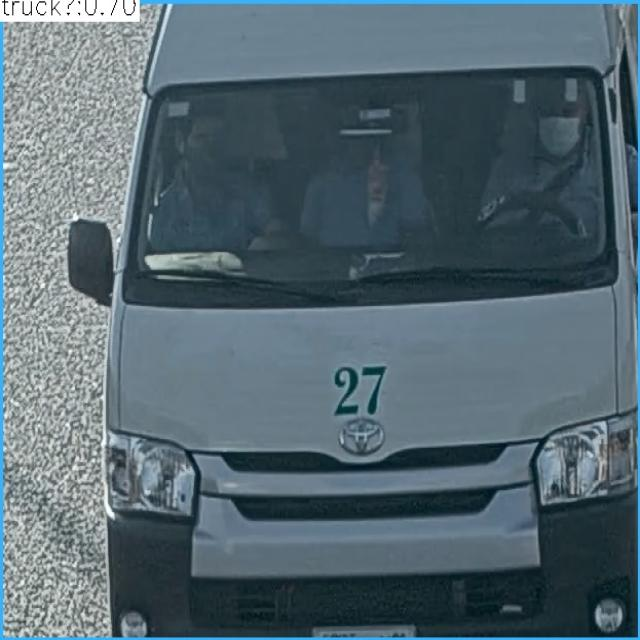windshield: (125, 73, 608, 296)
